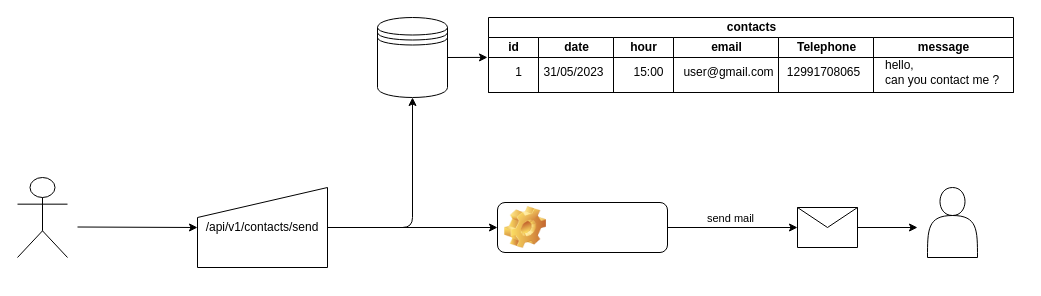
Image size: 1041x296. Some labels were removed from this diagram. Each missing label, with the centre of its shape:
"Admin" belongs at (952,222).
"postgres" belongs at (412,57).
"SMTP - Integration" belongs at (582,227).
"User" belongs at (42,217).
